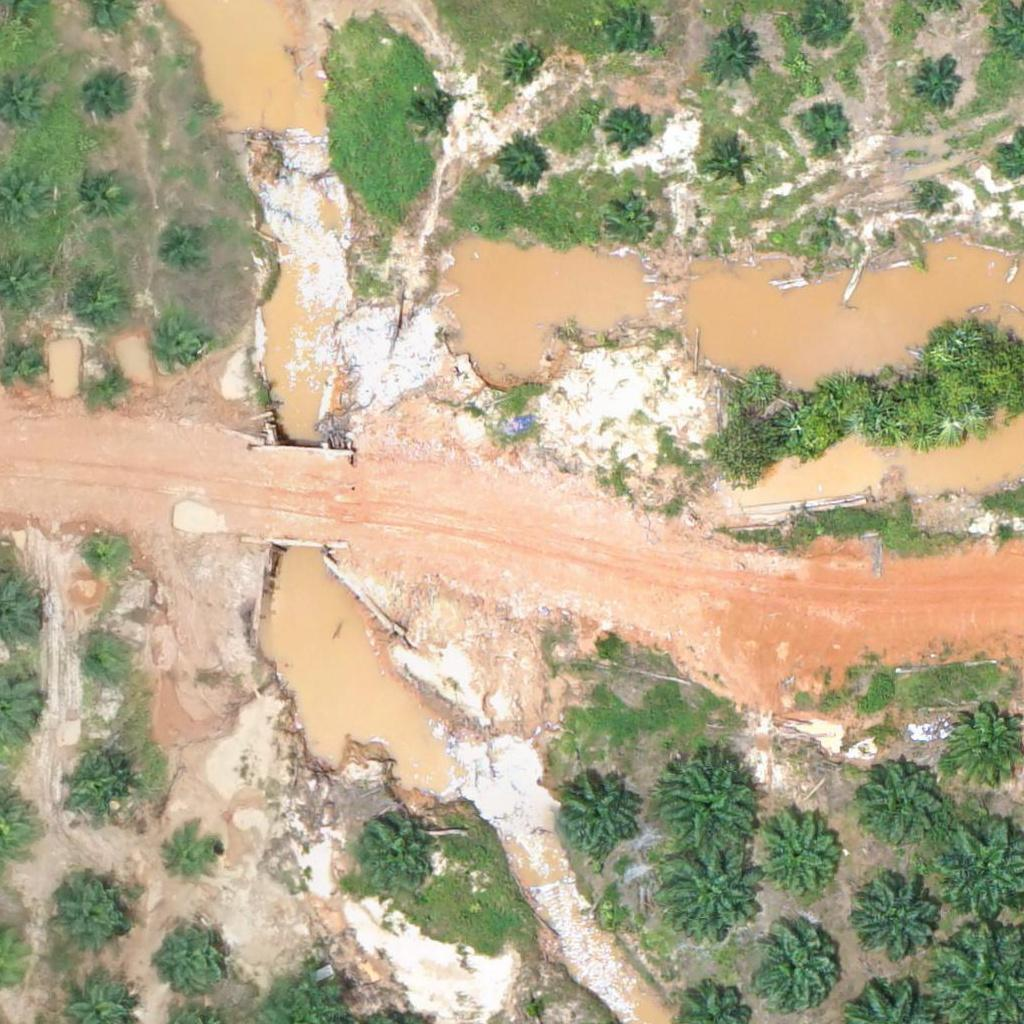Kelapa_Sawit: (662, 843, 762, 944), (658, 750, 758, 851), (50, 877, 138, 965), (861, 760, 949, 848), (754, 815, 842, 903), (751, 928, 839, 1016), (553, 775, 641, 863), (352, 816, 439, 904), (855, 879, 942, 967), (58, 752, 133, 828), (160, 915, 235, 991), (71, 267, 134, 330), (700, 30, 763, 93), (71, 162, 133, 225), (165, 824, 227, 887), (84, 358, 134, 409), (798, 97, 848, 148), (605, 3, 655, 54), (605, 101, 655, 152), (705, 140, 755, 191), (913, 63, 963, 113), (87, 73, 137, 123), (496, 141, 546, 191), (155, 324, 205, 374), (165, 219, 215, 269), (77, 532, 127, 582), (73, 639, 123, 689), (607, 202, 657, 252), (499, 37, 549, 87), (408, 93, 458, 143), (919, 183, 944, 208), (824, 217, 849, 242)
